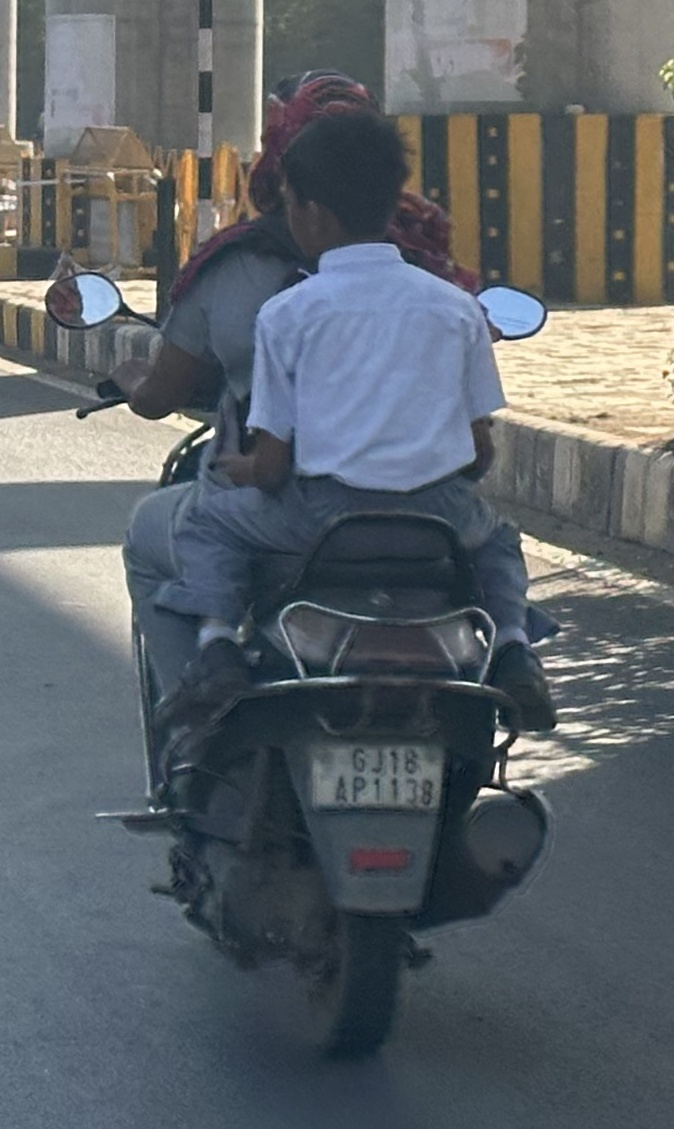BikeWithRider: (32, 62, 579, 1078)
NoHelmet: (235, 63, 396, 228), (280, 115, 409, 250)
